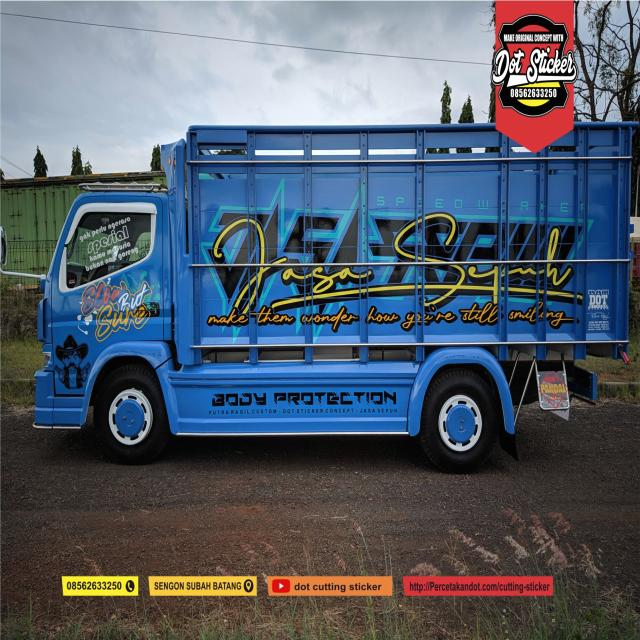truck: (35, 126, 631, 460)
